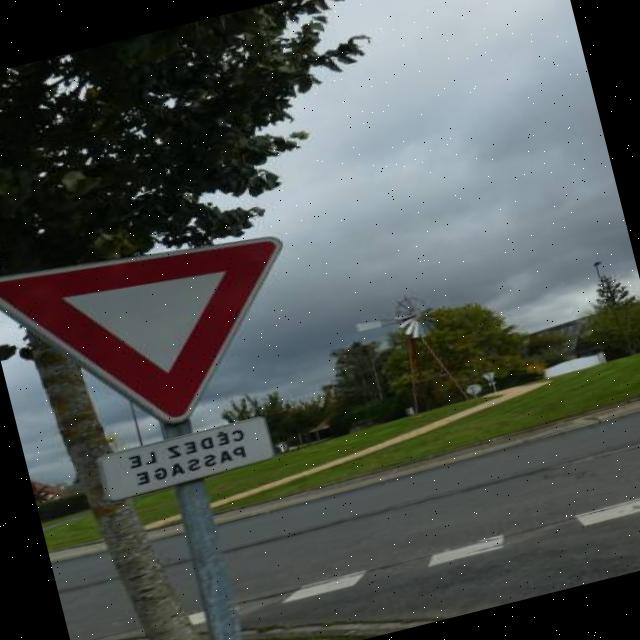give_way: (0, 200, 329, 469)
